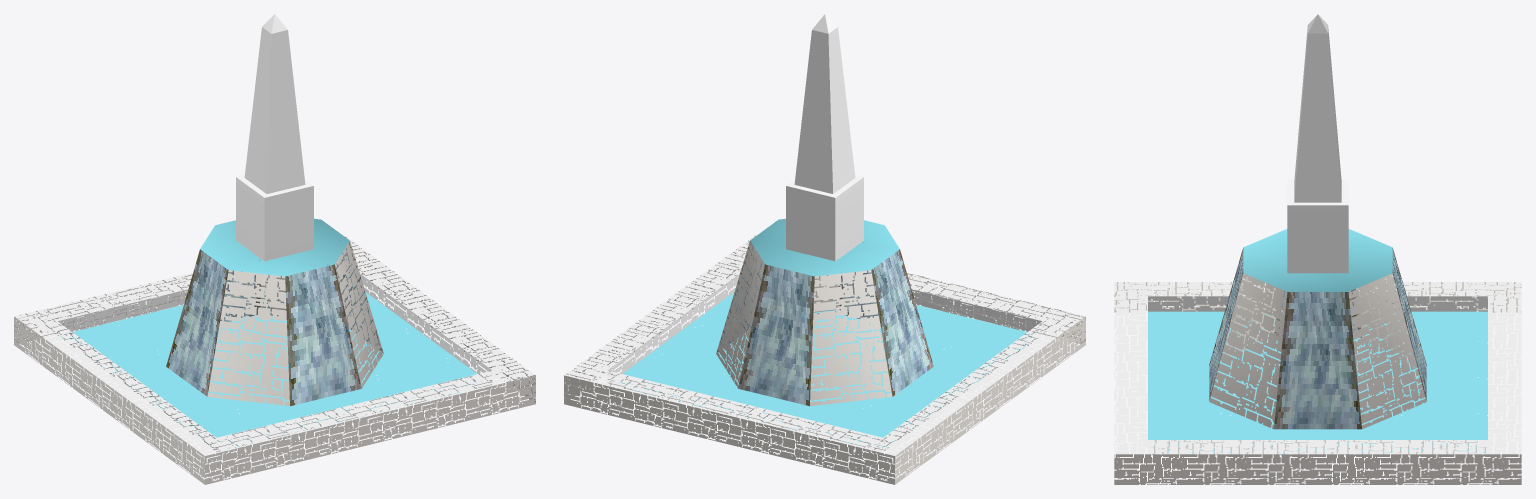
The model's file is uvmd-0082.glb.
The picture shows the model from 3 angles, left to right: view 1: azimuth 30°, elevation 25°; view 2: azimuth 150°, elevation 25°; view 3: azimuth 270°, elevation 25°; orthographic projection. The views are drawn at different scales.
Parts seen in each view (by area): view 1: uvmd-0082; view 2: uvmd-0082; view 3: uvmd-0082.
Boxes of the visible parts, x1=… form: uvmd-0082: x1=14, y1=14, x2=535, y2=484; uvmd-0082: x1=564, y1=14, x2=1085, y2=484; uvmd-0082: x1=1114, y1=14, x2=1521, y2=484.
Size of the model in its own units: 120 by 125 by 120.
4 materials, 4 textured.
